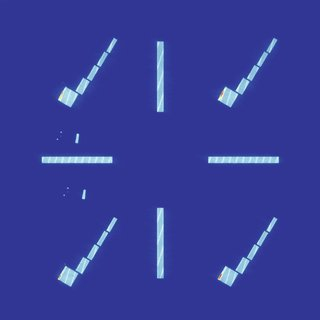overheated: (219, 89, 225, 100), (58, 270, 64, 279), (59, 92, 64, 101), (218, 272, 223, 280)
